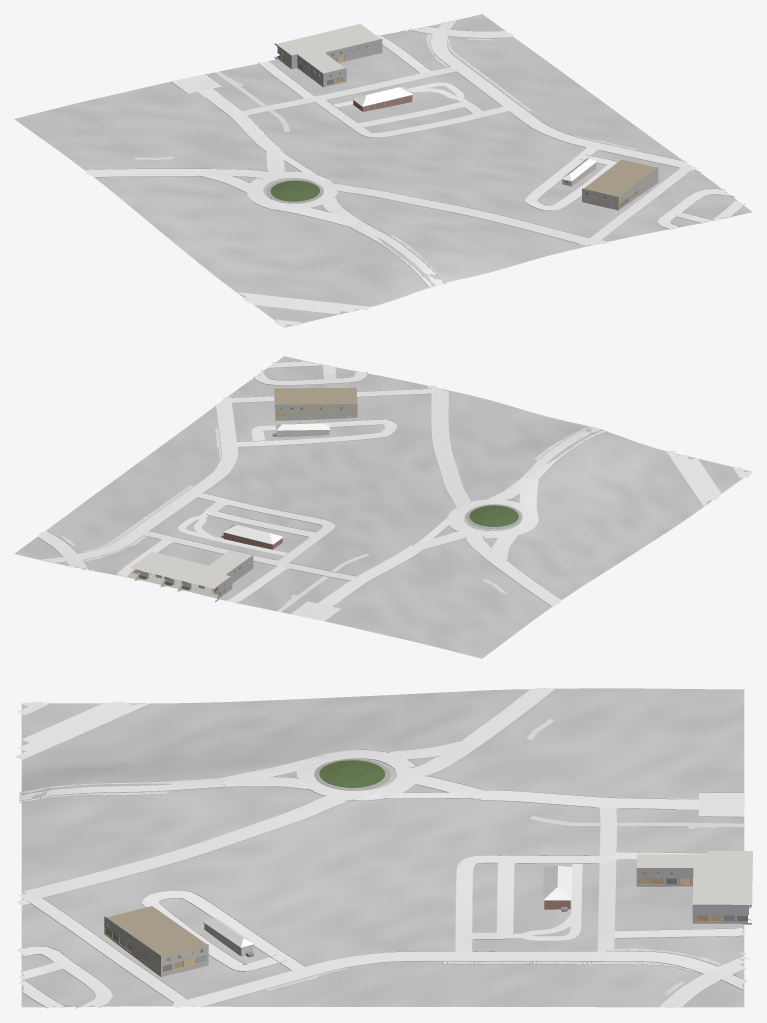
3 renders of one model, top to bottom at view 1: azimuth 30°, elevation 25°; view 2: azimuth 150°, elevation 25°; view 3: azimuth 270°, elevation 25°, orthographic. The views are drawn at different scales.
Parts seen in each view (by area): view 1: ground, asphalt, concrete, curb, roof_flat, wall_com, walk, detail, roof, mark_w; view 2: ground, asphalt, concrete, curb, roof_flat, wall_com, walk, detail, roof, mark_w, mark_y; view 3: ground, asphalt, concrete, curb, roof_flat, wall_com, walk, detail, roof, mark_w, mark_y, glass_lit.
Part boxes in pixels (left/top/right/bottom): ground: left=14, top=14, right=752, bottom=327; asphalt: left=86, top=26, right=696, bottom=327; concrete: left=242, top=20, right=744, bottom=239; curb: left=86, top=20, right=744, bottom=287; roof_flat: left=276, top=24, right=656, bottom=196; wall_com: left=274, top=39, right=658, bottom=210; walk: left=133, top=30, right=637, bottom=282; detail: left=267, top=45, right=637, bottom=208; roof: left=352, top=86, right=596, bottom=181; mark_w: left=86, top=37, right=607, bottom=309; ground: left=14, top=356, right=750, bottom=658; asphalt: left=38, top=385, right=752, bottom=621; concrete: left=40, top=361, right=431, bottom=603; curb: left=37, top=361, right=608, bottom=621; roof_flat: left=130, top=387, right=357, bottom=588; wall_com: left=215, top=391, right=357, bottom=602; walk: left=60, top=426, right=590, bottom=611; detail: left=132, top=399, right=522, bottom=598; roof: left=223, top=423, right=330, bottom=544; mark_w: left=83, top=386, right=706, bottom=620; mark_y: left=307, top=391, right=744, bottom=617; ground: left=21, top=688, right=744, bottom=1007; asphalt: left=14, top=687, right=749, bottom=1008; concrete: left=17, top=807, right=747, bottom=1008; curb: left=19, top=689, right=746, bottom=1008; roof_flat: left=106, top=851, right=752, bottom=955; wall_com: left=104, top=868, right=751, bottom=976; walk: left=20, top=718, right=745, bottom=995; detail: left=105, top=759, right=747, bottom=972; roof: left=203, top=865, right=572, bottom=947; mark_w: left=19, top=689, right=744, bottom=971; mark_y: left=20, top=689, right=744, bottom=891; glass_lit: left=106, top=871, right=721, bottom=969.
Size of the model in its own units: 254 by 10.4 by 256.
